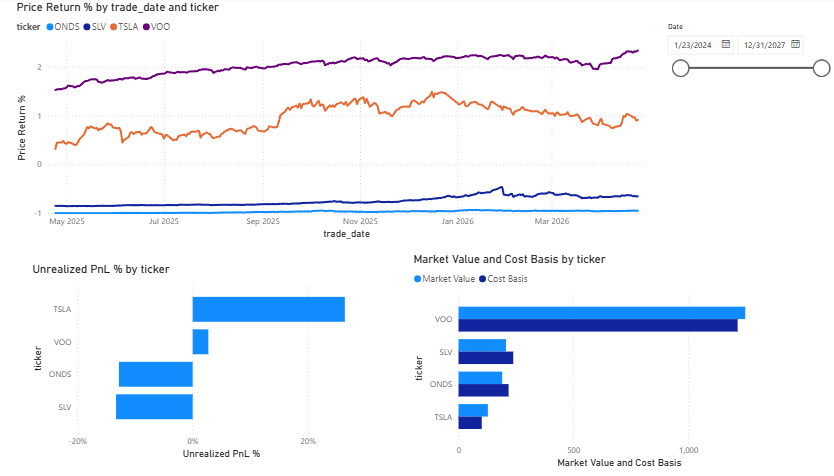

This screenshot's page, from the dashboard's own definition file:
{"tool":"powerbi","page":{"name":"Performance","canvas":[1280,720],"ordinal":1},"visuals":[{"type":"lineChart","fields":{"Category":["prices.trade_date"],"Y":["dim_holdings.Price Return %"],"Series":["dim_holdings.ticker"]},"box":[60,4.4,945,355.5],"z":0},{"type":"clusteredBarChart","fields":{"Category":["dim_holdings.ticker"],"Y":["dim_holdings.Unrealized PnL %"]},"box":[83.4,387.7,509.1,292.6],"z":1},{"type":"clusteredBarChart","fields":{"Category":["dim_holdings.ticker"],"Y":["dim_holdings.Market Value","dim_holdings.Cost Basis"]},"box":[640.7,373,561.7,321.8],"z":2},{"type":"slicer","fields":{"Values":["dim_date.Date"]},"box":[1005,32.2,258.9,95.1],"z":3}]}

Visuals, with their boxes in screenshot pixels (x1, y1, x2, y2), scaled from the page's 1280x720 canvas onto the 834x476 screenshot:
lineChart - prices.trade_date x dim_holdings.Price Return %: bbox=(39, 3, 655, 238)
clusteredBarChart - dim_holdings.ticker x dim_holdings.Unrealized PnL %: bbox=(54, 256, 386, 450)
clusteredBarChart - dim_holdings.ticker x dim_holdings.Market Value: bbox=(417, 247, 783, 459)
slicer - dim_date.Date: bbox=(655, 21, 824, 84)
